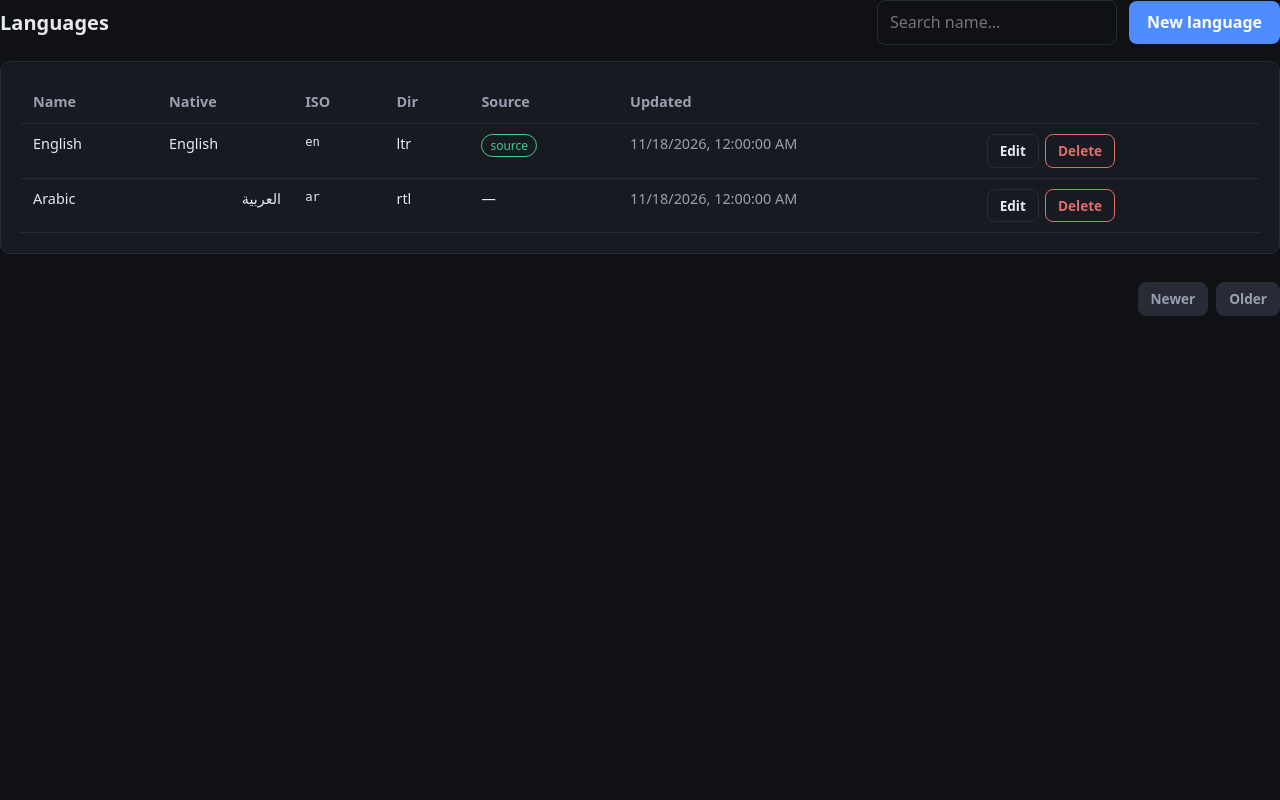
Test: LanguagesAdmin › closes the dialog on Cancel
This screenshot has width=1280, height=800.
Expected: the 1st text "English" is shown, [21, 124, 157, 178]
Click the button "New language".
click(1204, 23)  # box [1129, 1, 1279, 44]
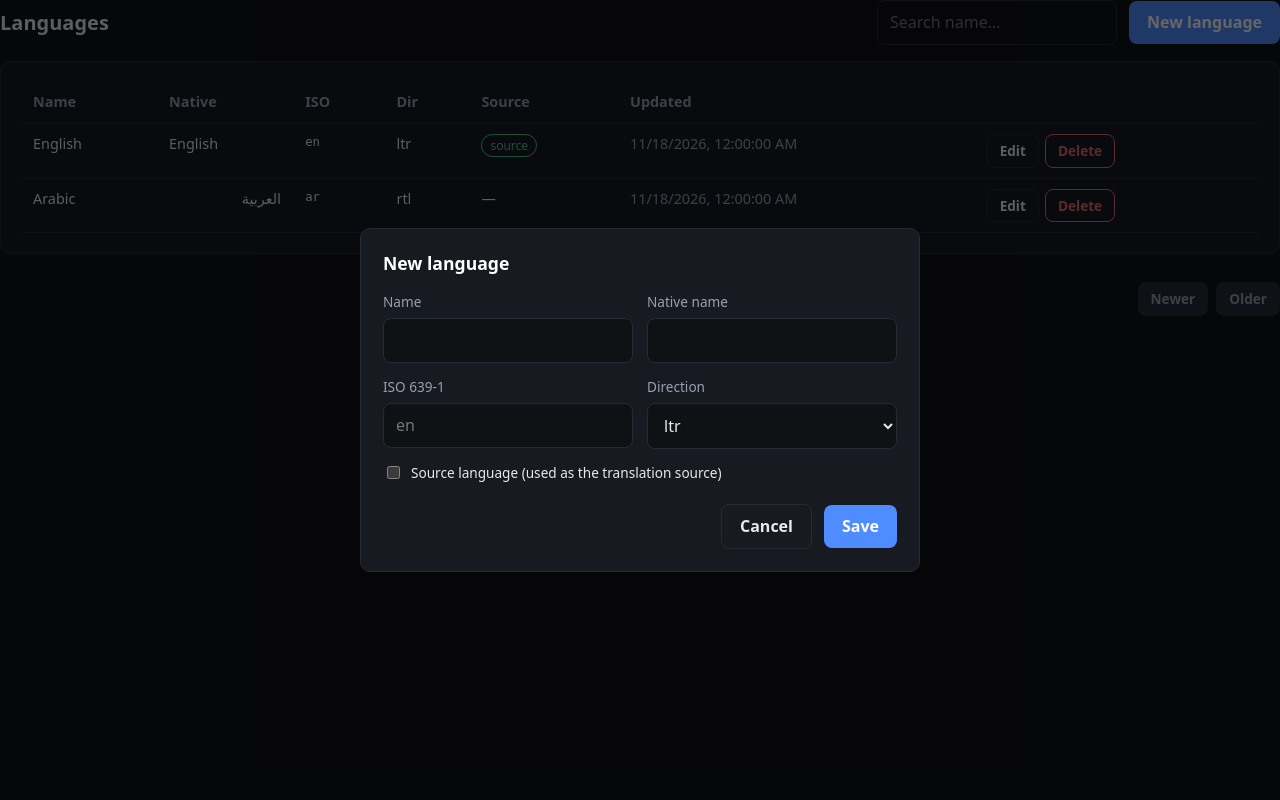
Now the dialog is shown
Click the button "Cancel".
click(766, 527)  # box [721, 504, 812, 550]
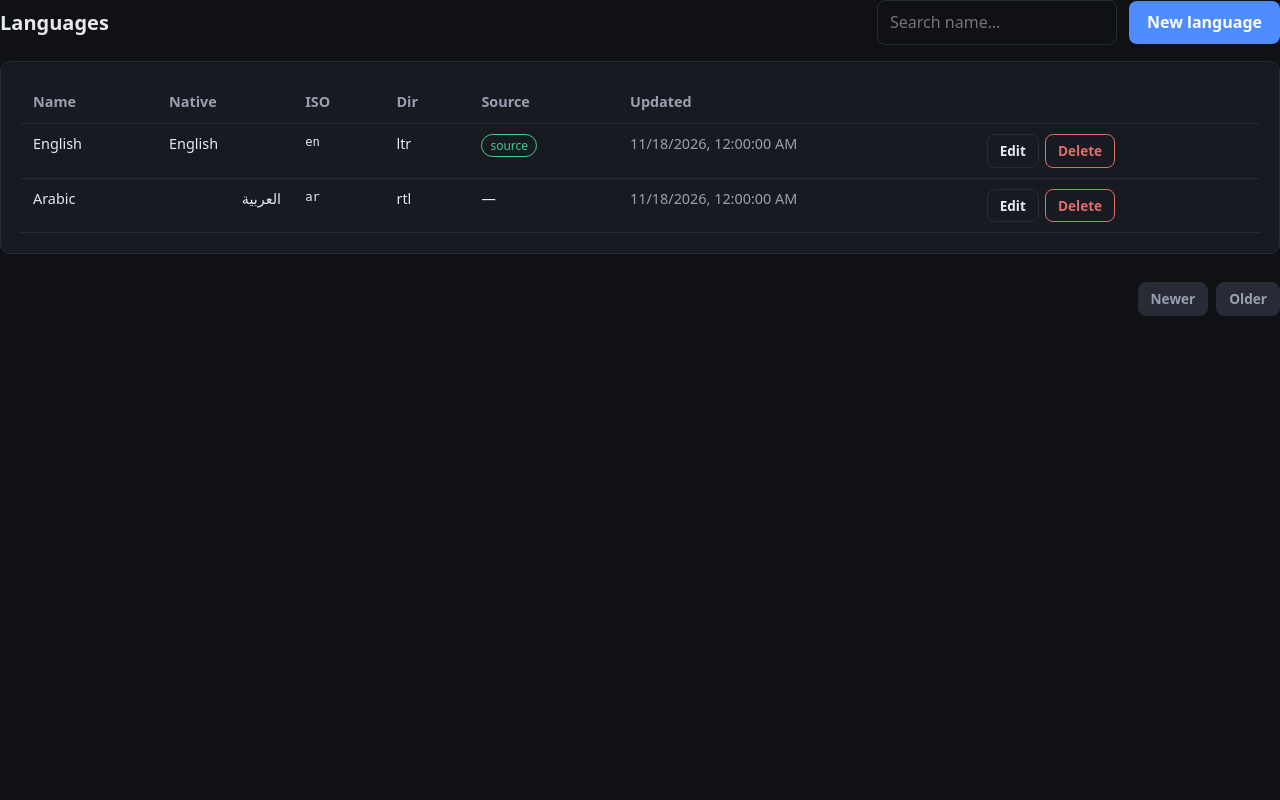
Now the dialog is gone
